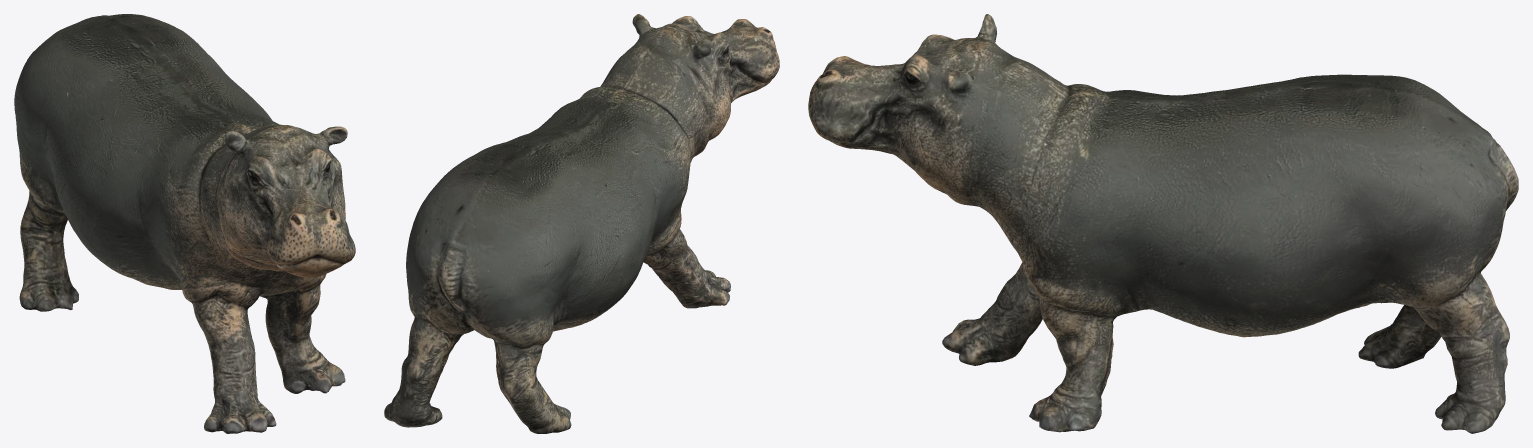
The model's file is kaba.glb.
3 views of the same model, side by side, from view 1: azimuth 30°, elevation 25°; view 2: azimuth 150°, elevation 25°; view 3: azimuth 270°, elevation 25° (orthographic). The views are drawn at different scales.
Parts seen in each view (by area): view 1: Hippopotamus_Hippopotamus_with_mouth_closed1_0; view 2: Hippopotamus_Hippopotamus_with_mouth_closed1_0; view 3: Hippopotamus_Hippopotamus_with_mouth_closed1_0.
Boxes of the visible parts, bbox=[...] form: Hippopotamus_Hippopotamus_with_mouth_closed1_0: bbox=[14, 14, 355, 433]; Hippopotamus_Hippopotamus_with_mouth_closed1_0: bbox=[384, 14, 779, 433]; Hippopotamus_Hippopotamus_with_mouth_closed1_0: bbox=[808, 14, 1518, 433].
Size of the model in its own units: 1.4 by 2.15 by 4.
1 material, 1 textured.
